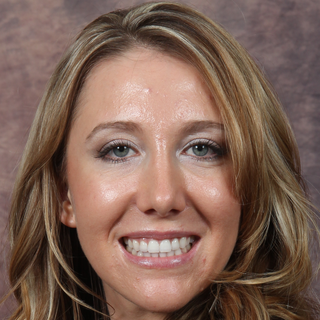eye: (177, 136, 225, 163), (94, 138, 143, 164)
